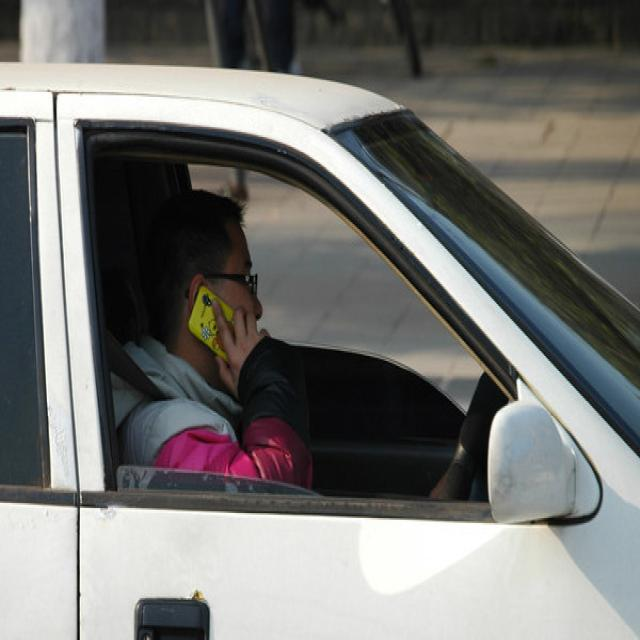phone: (188, 286, 248, 361)
